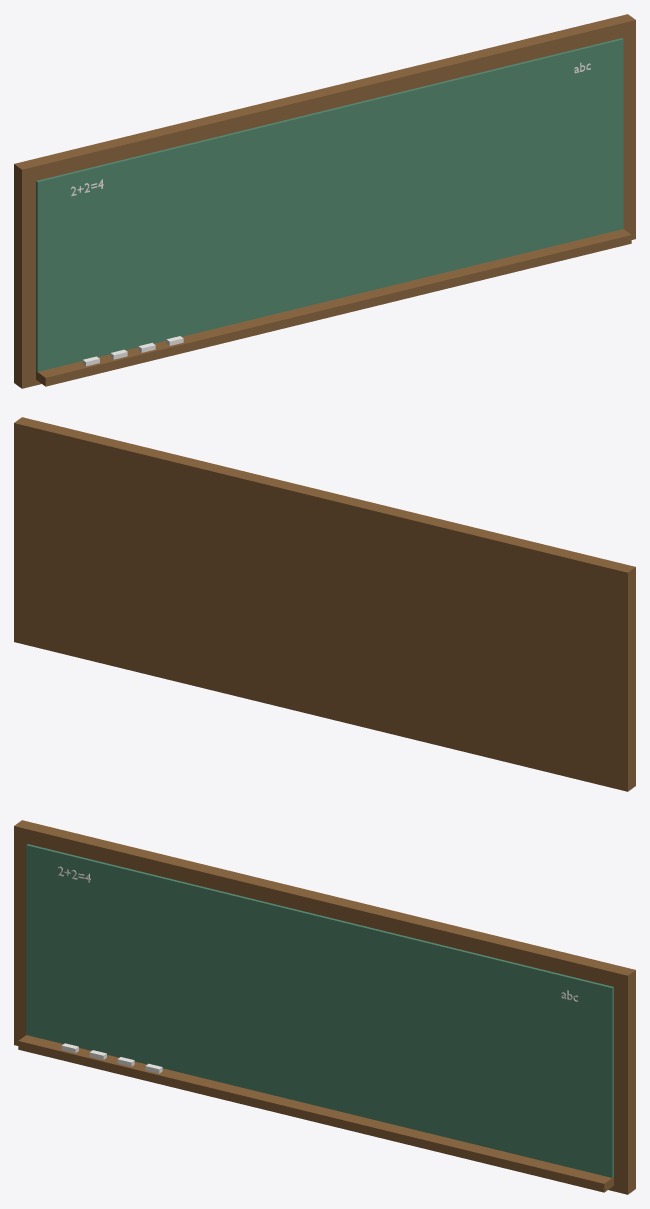
File: classroom_board.glb
The picture shows the model from 3 angles, top to bottom: view 1: azimuth 30°, elevation 25°; view 2: azimuth 150°, elevation 25°; view 3: azimuth 330°, elevation 25°; orthographic projection.
Parts seen in each view (by area): view 1: classroom_board; view 2: classroom_board; view 3: classroom_board.
Part boxes in pixels (box(x1,y1,x2,y2)): classroom_board: box(14, 14, 635, 388); classroom_board: box(14, 417, 635, 791); classroom_board: box(14, 820, 635, 1194).
Bounding box in the file's own units: 4.4 × 1.5 × 0.22.
